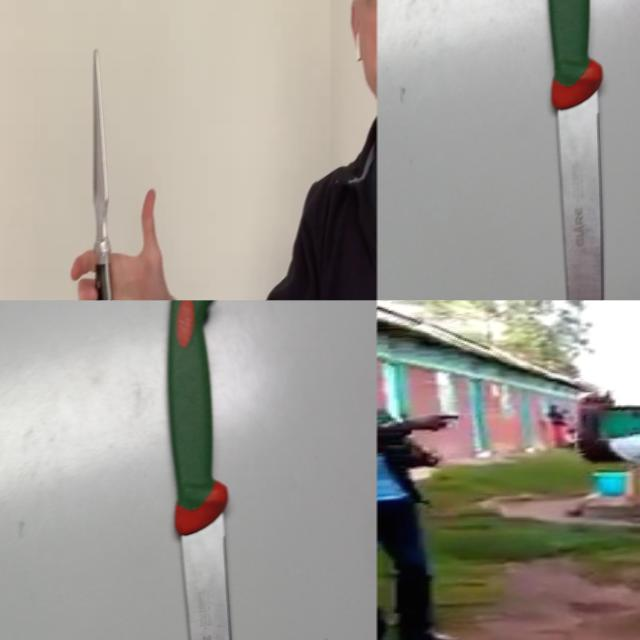Knife: (168, 300, 231, 640), (549, 0, 603, 300)
Knife_Handle: (70, 46, 168, 300)
